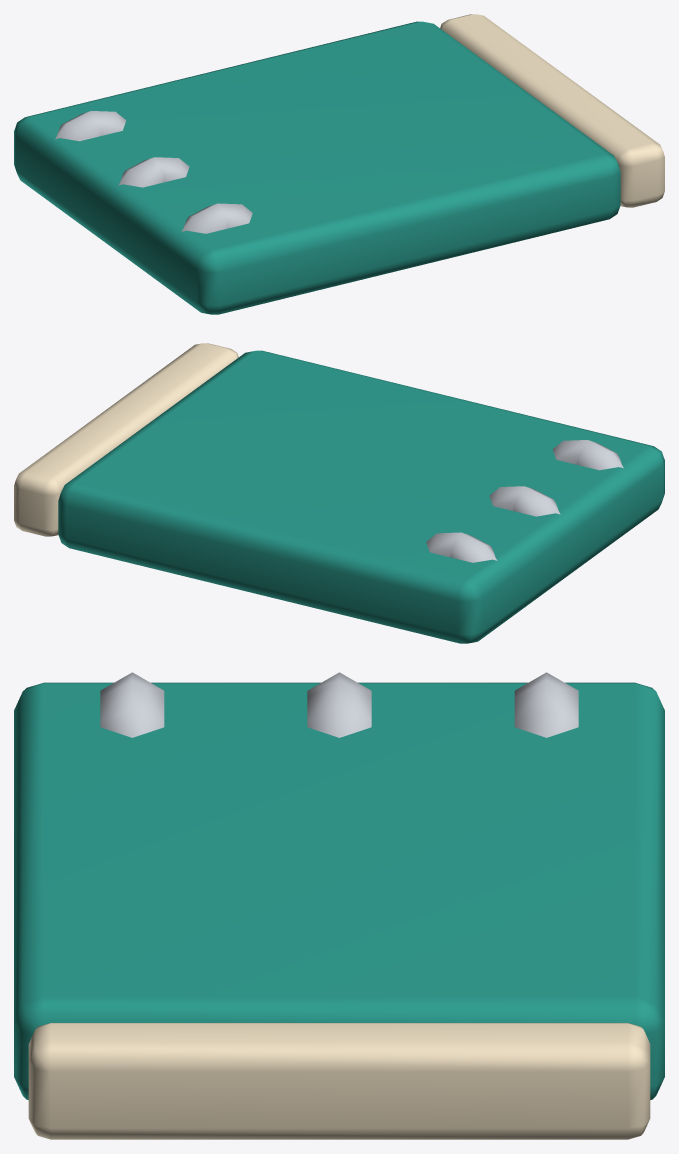
File: Prop_Checklist.fbx
3 views of the same model, one above another, from view 1: azimuth 30°, elevation 25°; view 2: azimuth 150°, elevation 25°; view 3: azimuth 270°, elevation 25° (orthographic). The views are drawn at different scales.
Parts seen in each view (by area): view 1: Prop_Checklist.Cover, Prop_Checklist.Pages, Prop_Checklist.Rings; view 2: Prop_Checklist.Cover, Prop_Checklist.Pages, Prop_Checklist.Rings; view 3: Prop_Checklist.Cover, Prop_Checklist.Pages, Prop_Checklist.Rings.
Boxes of the visible parts, x1=… form: Prop_Checklist.Cover: x1=14, y1=21, x2=620, y2=314; Prop_Checklist.Pages: x1=440, y1=14, x2=664, y2=207; Prop_Checklist.Rings: x1=55, y1=111, x2=252, y2=233; Prop_Checklist.Cover: x1=58, y1=350, x2=664, y2=643; Prop_Checklist.Pages: x1=14, y1=343, x2=238, y2=536; Prop_Checklist.Rings: x1=426, y1=440, x2=623, y2=562; Prop_Checklist.Cover: x1=14, y1=682, x2=664, y2=1099; Prop_Checklist.Pages: x1=28, y1=1023, x2=650, y2=1139; Prop_Checklist.Rings: x1=100, y1=672, x2=578, y2=737.
Size of the model in its own units: 0.3 by 0.062 by 0.22.
Materials: 1 (1 with a texture image).
